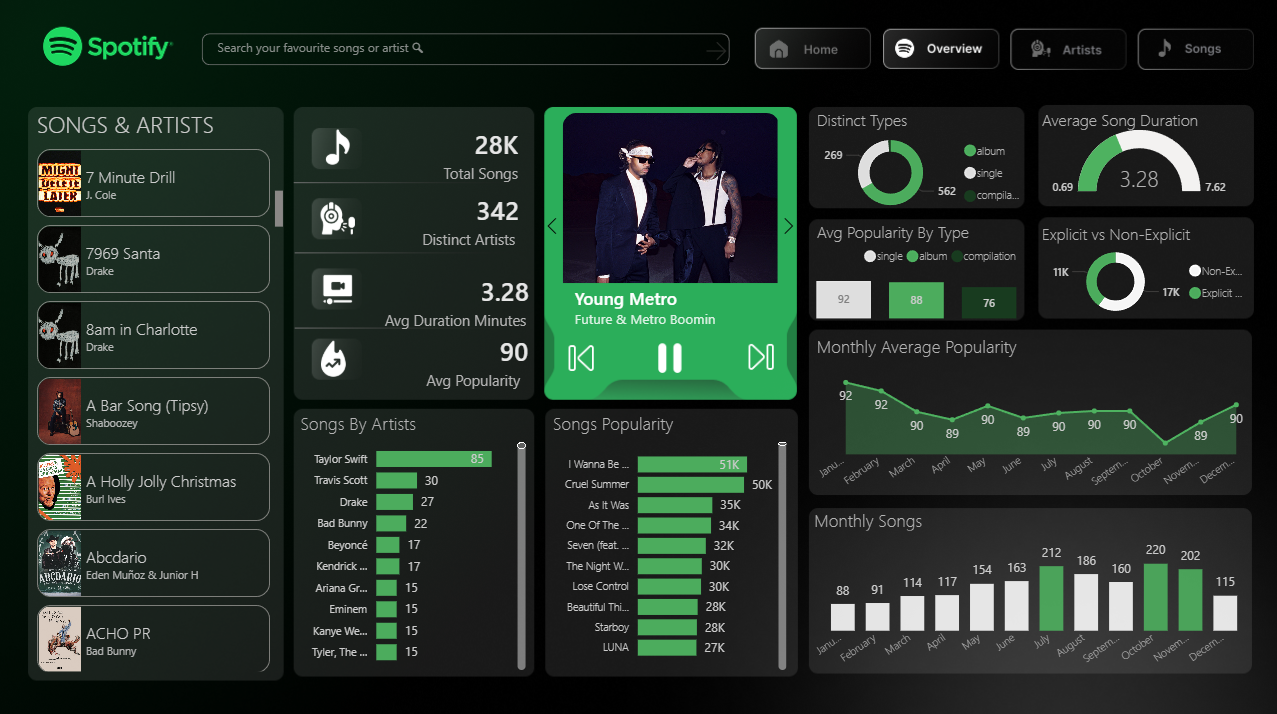

Layout of this report page (visuals, bound fields, positions):
{"tool":"powerbi","page":{"name":"Overview","canvas":[1280,720],"ordinal":1},"visuals":[{"type":"clusteredBarChart","title":"Songs By Artists","fields":{"Category":["Top-50-world.artist"],"Y":["_Measures.Distinct Songs"]},"box":[298,415,235.3,263],"z":0},{"type":"clusteredBarChart","title":"Songs Popularity","fields":{"Category":["Top-50-world.song"],"Y":["Sum(Top-50-world.popularity)"]},"box":[550.1,415,243.7,263],"z":1000},{"type":"stackedAreaChart","title":"Monthly Average Popularity","fields":{"Y":["_Measures.Avg Popularity"],"Category":["Top-50-world.date.Variation.Date Hierarchy.Month"]},"box":[814.3,337.8,444,162.9],"z":2000},{"type":"donutChart","title":"Distinct Types","fields":{"Y":["_Measures.Distinct Songs"],"Category":["Top-50-world.album_type"]},"box":[814.3,111,222,112.2],"z":3000},{"type":"donutChart","title":"Explicit vs Non-Explicit","fields":{"Y":["_Measures.Non-Explicit Songs","_Measures.Explicit Songs"]},"box":[1038.7,224.4,222,102.5],"z":4000},{"type":"gauge","title":"Average Song Duration","fields":{"MinValue":["_Measures.Min Duration Minutes"],"MaxValue":["_Measures.Max Duration Minutes"],"Y":["_Measures.Avg Duration Minutes"]},"box":[1038.7,111,205.1,92.9],"z":5000},{"type":"columnChart","title":"Avg Popularity By Type","fields":{"Y":["_Measures.Avg Popularity"],"Category":["Top-50-world.album_type"],"Series":["Top-50-world.album_type"]},"box":[814.3,223.2,213.5,103.8],"z":6000},{"type":"clusteredColumnChart","title":"Monthly Songs","fields":{"Category":["Top-50-world.date.Variation.Date Hierarchy.Month"],"Y":["_Measures.Distinct Songs"]},"box":[810.7,511.5,447.6,166.5],"z":7000},{"type":"image","box":[313.7,203.9,51.9,35],"z":8000},{"type":"image","box":[314.9,344,51.9,36.2],"z":9000},{"type":"image","box":[313.7,132.7,51.9,35],"z":10000},{"type":"image","box":[313.7,275.1,51.9,35],"z":11000},{"type":"advancedSlicerVisual","title":"SONGS & ARTISTS","fields":{"Values":["Top-50-world.song"]},"box":[33.8,111,256,567],"z":12000},{"type":"advancedSlicerVisual","title":"Songs & Artists","fields":{"Values":["Top-50-world.song"]},"box":[544,115,257,228],"z":13000},{"type":"image","box":[749.2,336.6,29,47.1],"z":14000},{"type":"image","box":[568.2,337.8,29,47.1],"z":15000},{"type":"image","box":[657.5,337.8,29,47.1],"z":16000},{"type":"cardVisual","fields":{"Data":["_Measures.Distinct Artists"]},"box":[390.9,168.9,159.3,111],"z":17000},{"type":"cardVisual","fields":{"Data":["_Measures.Total Songs"]},"box":[416.2,102.5,133.9,111],"z":18000},{"type":"cardVisual","fields":{"Data":["_Measures.Avg Duration Minutes"]},"box":[354.7,249.7,205.1,111],"z":19000},{"type":"cardVisual","fields":{"Data":["_Measures.Avg Popularity"]},"box":[390.9,310.1,168.9,111],"z":20000},{"type":"actionButton","box":[1013,33,111,39],"z":21000},{"type":"actionButton","box":[1140,33,113,39],"z":22000},{"type":"actionButton","box":[758,32,114,42],"z":23000},{"type":"actionButton","box":[885,31,117,42],"z":24000},{"type":"shape","box":[204,36,528,32],"z":25000},{"type":"textSlicer","fields":{"Values":["Top-50-world.song"]},"box":[208,35,528,32],"z":26000}]}

Visuals, with their boxes on the page's 1280x720 design canvas (x1, y1, x2, y2). These are canvas units, not pixel positions in the 1277x714 screenshot, which may show the page scaled, cropped or inside an application window:
"Songs By Artists" clusteredBarChart: x1=298 y1=415 x2=533 y2=678
"Songs Popularity" clusteredBarChart: x1=550 y1=415 x2=794 y2=678
"Monthly Average Popularity" stackedAreaChart: x1=814 y1=338 x2=1258 y2=501
"Distinct Types" donutChart: x1=814 y1=111 x2=1036 y2=223
"Explicit vs Non-Explicit" donutChart: x1=1039 y1=224 x2=1261 y2=327
"Average Song Duration" gauge: x1=1039 y1=111 x2=1244 y2=204
"Avg Popularity By Type" columnChart: x1=814 y1=223 x2=1028 y2=327
"Monthly Songs" clusteredColumnChart: x1=811 y1=512 x2=1258 y2=678
image: x1=314 y1=204 x2=366 y2=239
image: x1=315 y1=344 x2=367 y2=380
image: x1=314 y1=133 x2=366 y2=168
image: x1=314 y1=275 x2=366 y2=310
"SONGS & ARTISTS" advancedSlicerVisual: x1=34 y1=111 x2=290 y2=678
"Songs & Artists" advancedSlicerVisual: x1=544 y1=115 x2=801 y2=343
image: x1=749 y1=337 x2=778 y2=384
image: x1=568 y1=338 x2=597 y2=385
image: x1=658 y1=338 x2=686 y2=385
cardVisual - _Measures.Distinct Artists: x1=391 y1=169 x2=550 y2=280
cardVisual - _Measures.Total Songs: x1=416 y1=102 x2=550 y2=214
cardVisual - _Measures.Avg Duration Minutes: x1=355 y1=250 x2=560 y2=361
cardVisual - _Measures.Avg Popularity: x1=391 y1=310 x2=560 y2=421
actionButton: x1=1013 y1=33 x2=1124 y2=72
actionButton: x1=1140 y1=33 x2=1253 y2=72
actionButton: x1=758 y1=32 x2=872 y2=74
actionButton: x1=885 y1=31 x2=1002 y2=73
shape: x1=204 y1=36 x2=732 y2=68
textSlicer - Top-50-world.song: x1=208 y1=35 x2=736 y2=67
